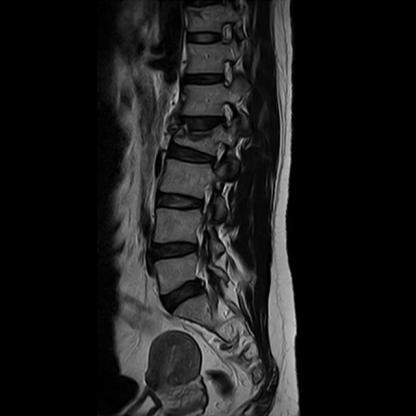Annular Tearrotation: (158, 282, 212, 311)
Fracturerotation: (165, 110, 240, 165)
